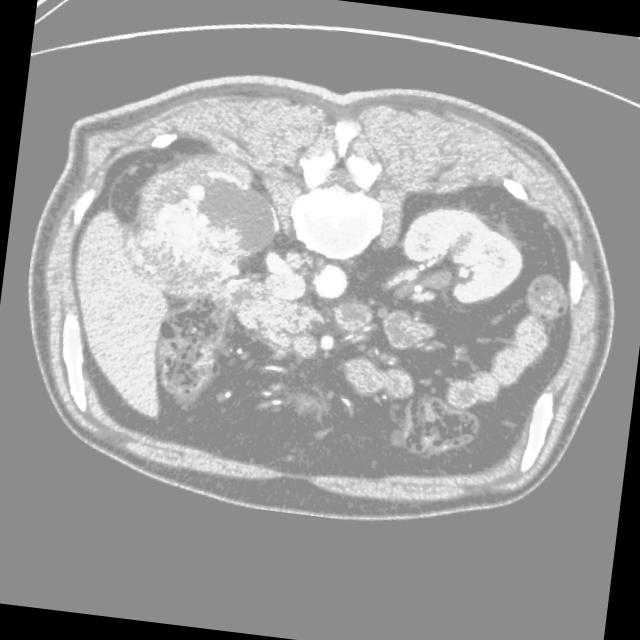TUMOR: (27, 138, 559, 369)
